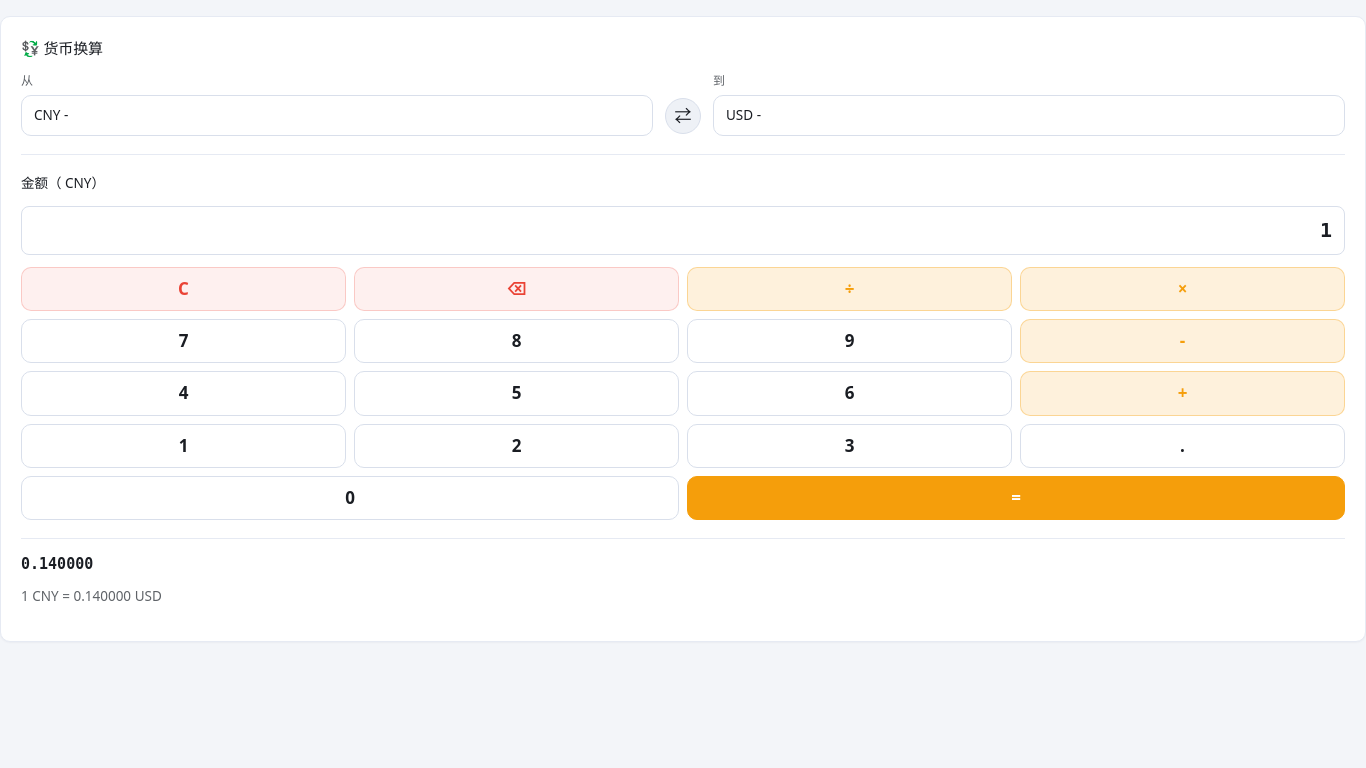
ExchangeConverter › 计算器键盘可输入表达式并实时换算
Click the button "C": coordinates (184, 289) [21, 267, 346, 311]
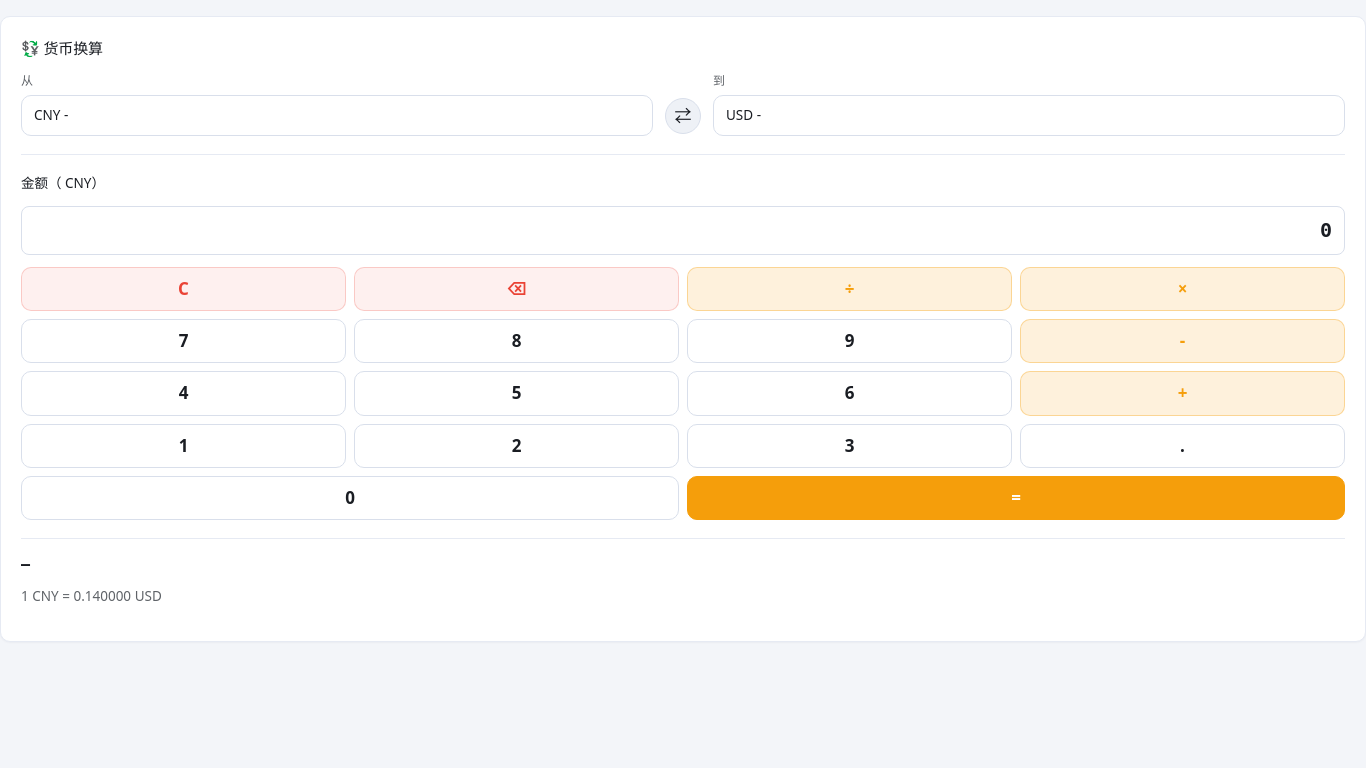
Click the button "1": coordinates (184, 446) [21, 424, 346, 468]
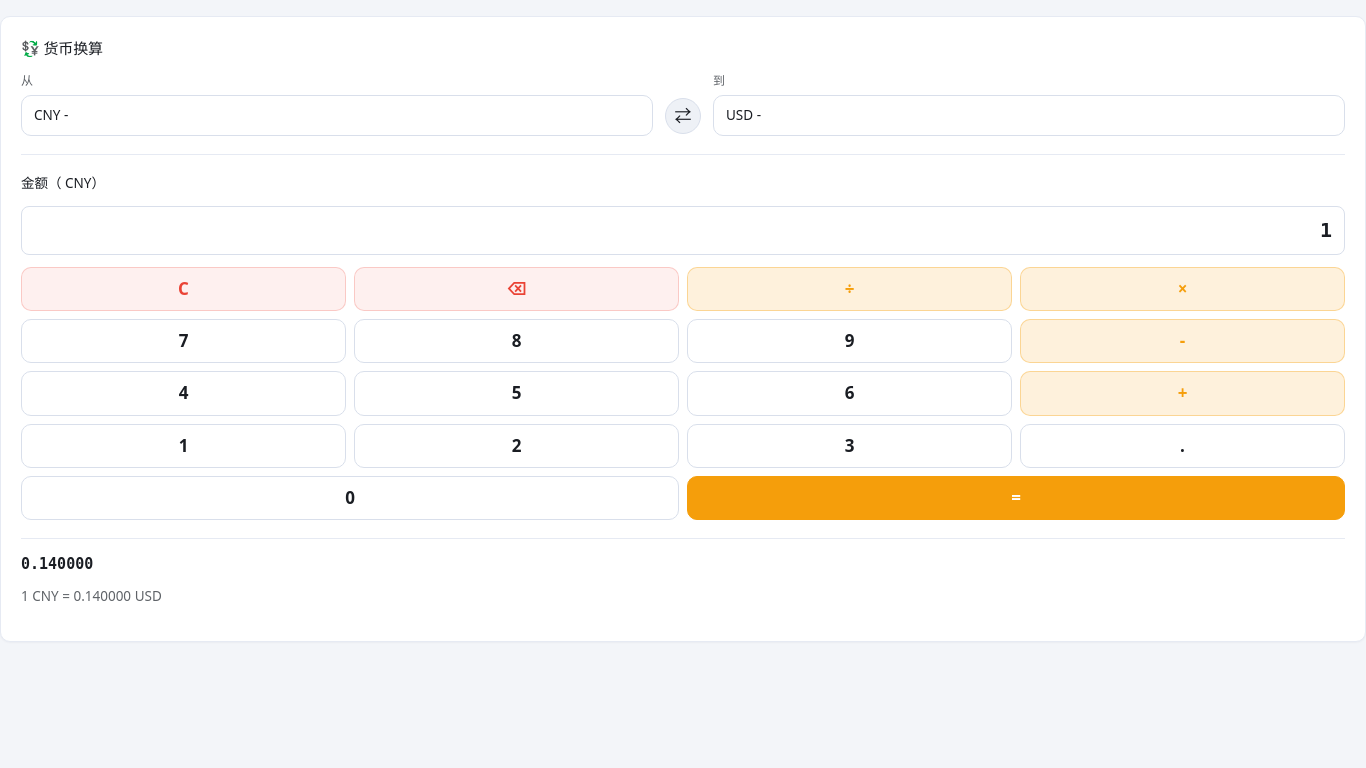
Click the button "0": coordinates (350, 498) [21, 476, 679, 520]
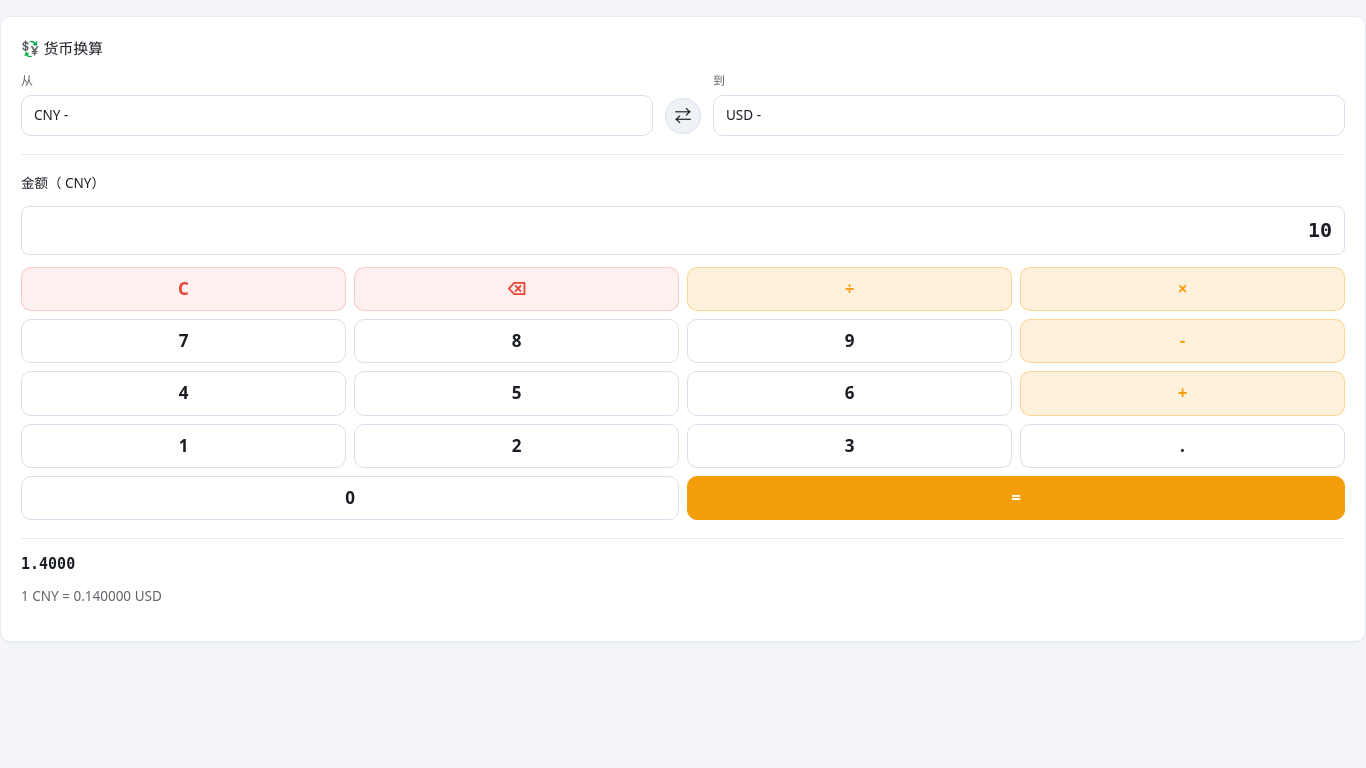
Click the button "+": coordinates (1182, 394) [1020, 371, 1345, 416]
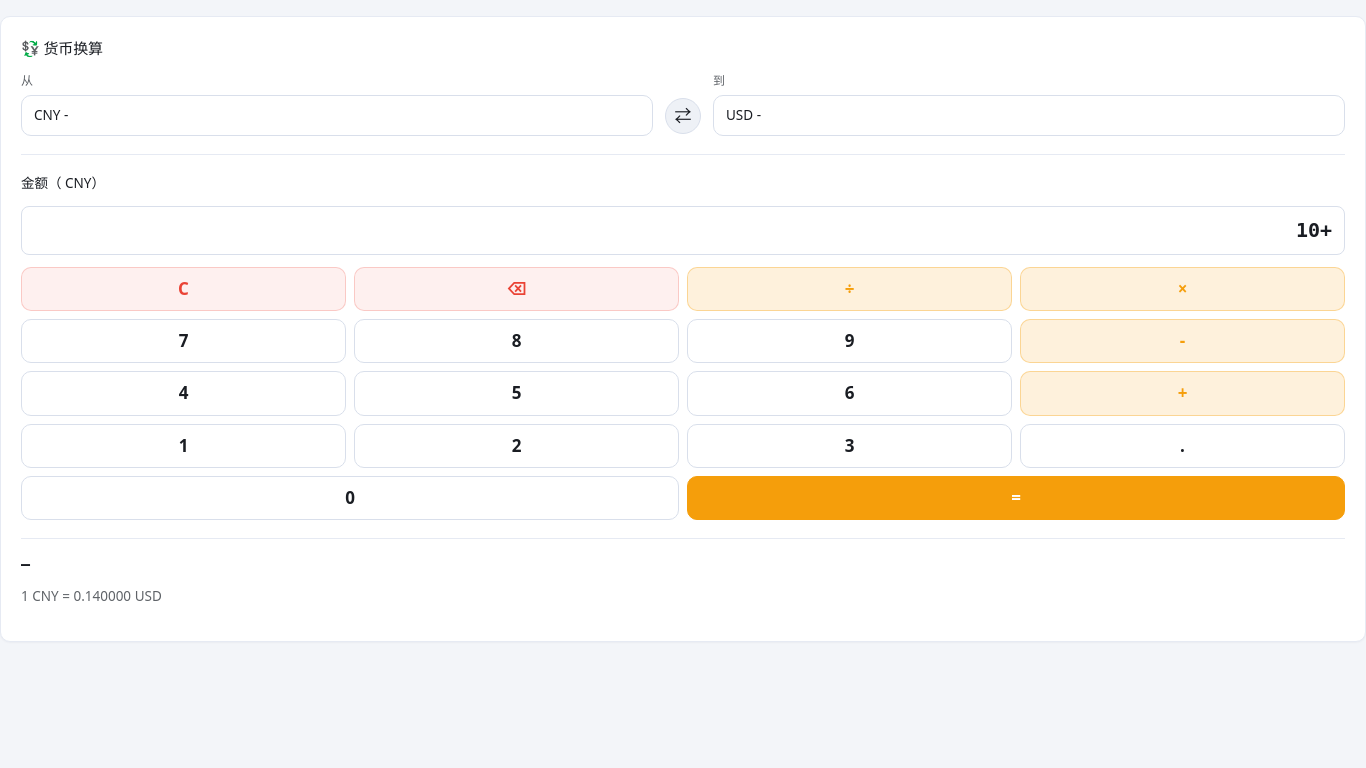
Click the button "5": coordinates (516, 394) [354, 371, 679, 416]
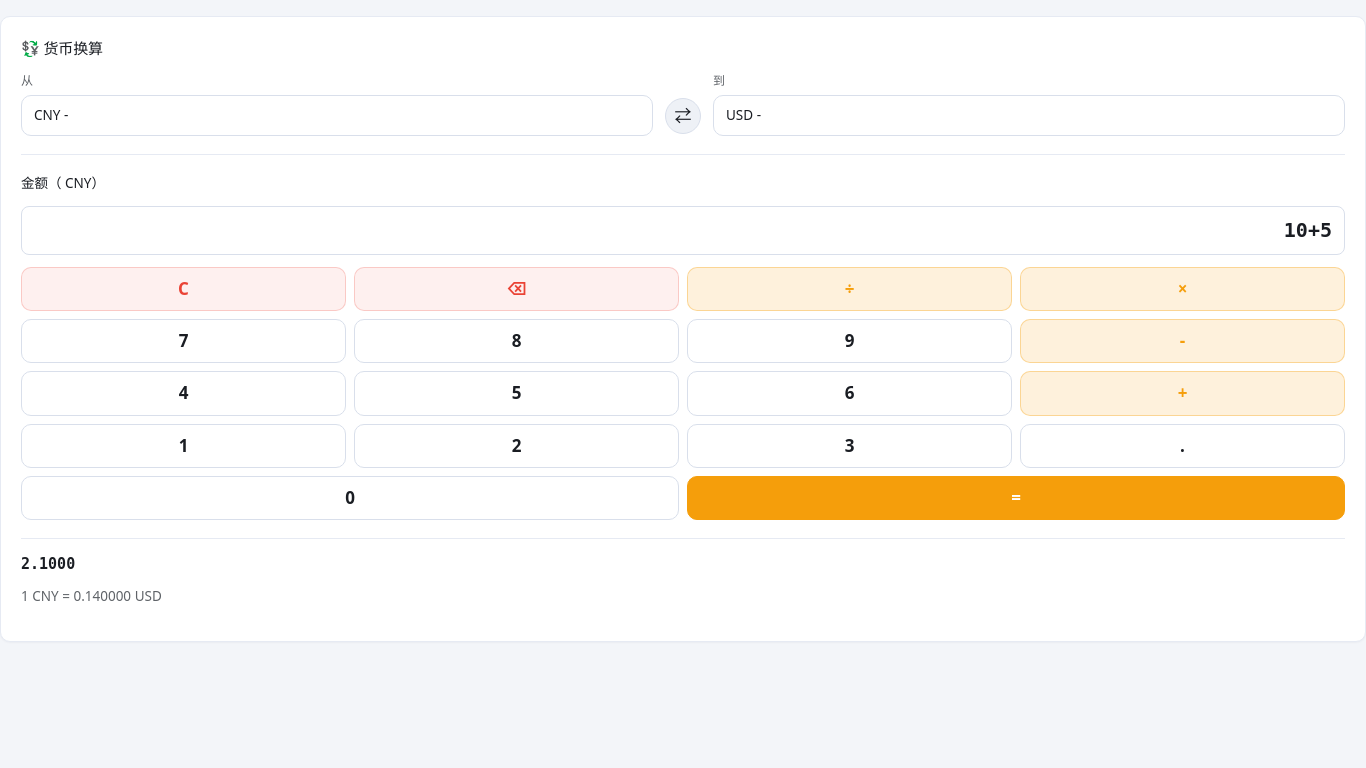
Click the button "=": coordinates (1016, 498) [687, 476, 1345, 520]
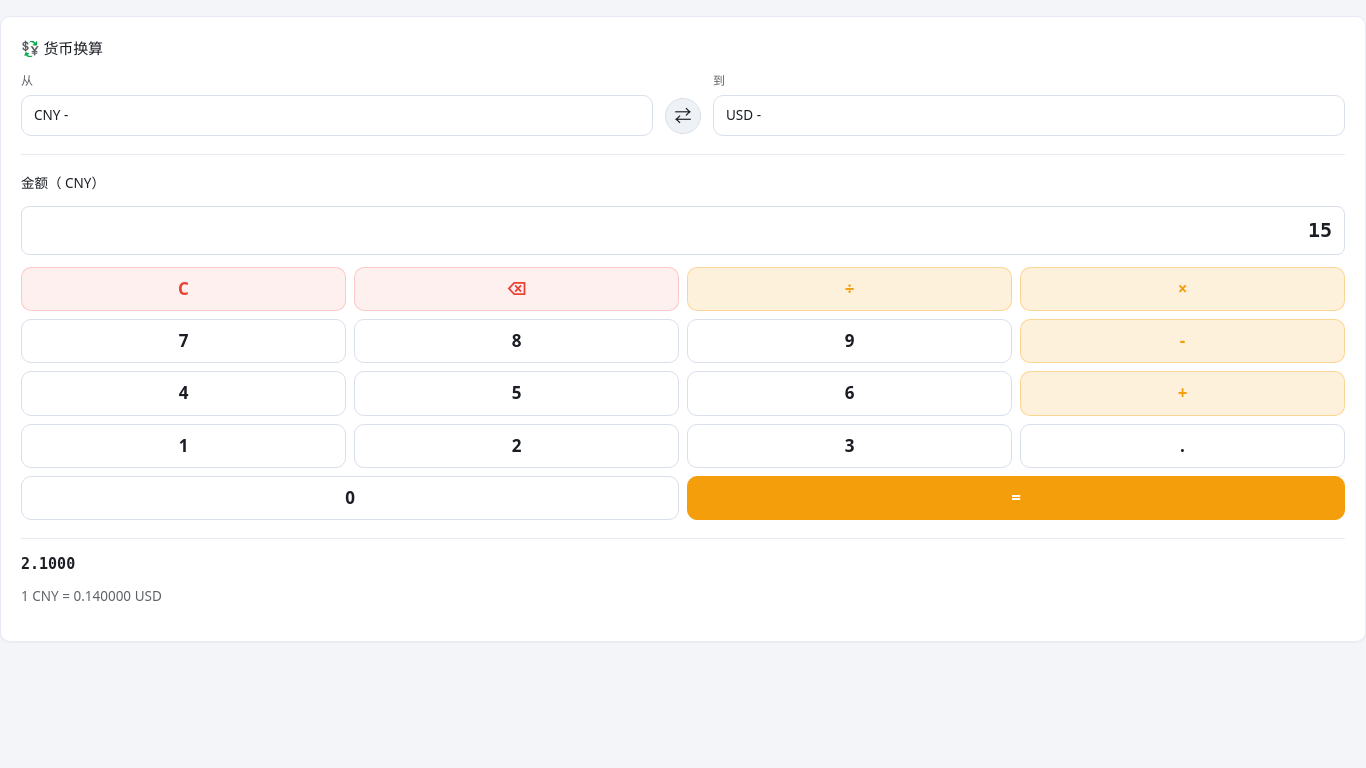
Expected: the text named "换算结果" reads "2.1000", [21, 555, 75, 573]
Expected: the text "15" is shown, [21, 206, 1345, 255]
